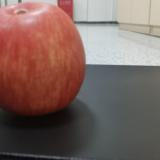apple: (1, 1, 86, 116)
